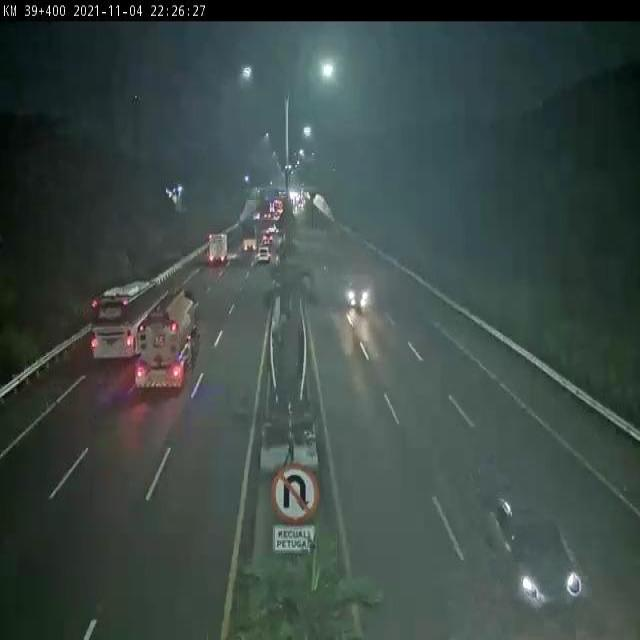bus-l-: (90, 272, 163, 367)
car: (482, 491, 590, 621), (345, 279, 371, 312), (256, 246, 271, 262), (262, 232, 274, 247)
truck-l-: (129, 285, 201, 399)
truck-m-: (204, 230, 230, 266)
